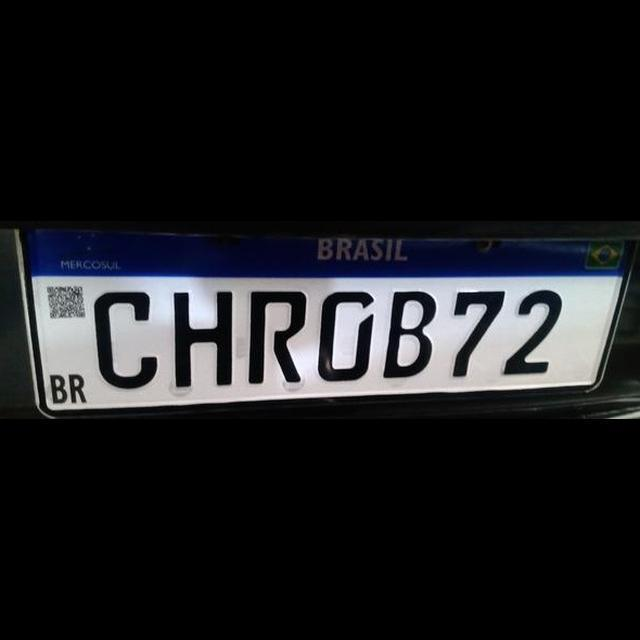Caractere: (172, 286, 236, 392), (92, 287, 156, 391), (250, 288, 310, 387), (316, 288, 376, 384), (503, 286, 565, 378), (380, 288, 438, 379), (449, 288, 506, 379)
Placa: (16, 226, 630, 416)
